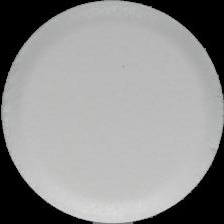68788-0177: (0, 0, 224, 224)
